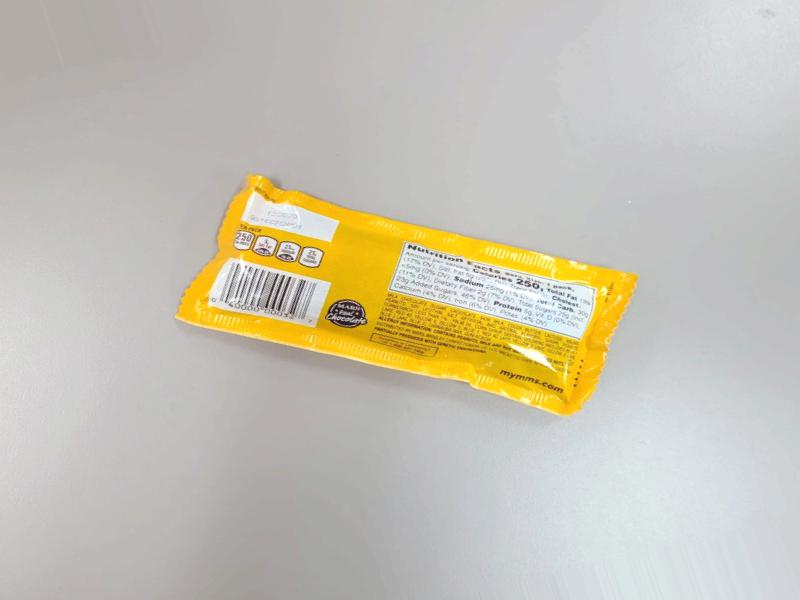m&m: (141, 185, 636, 411)
